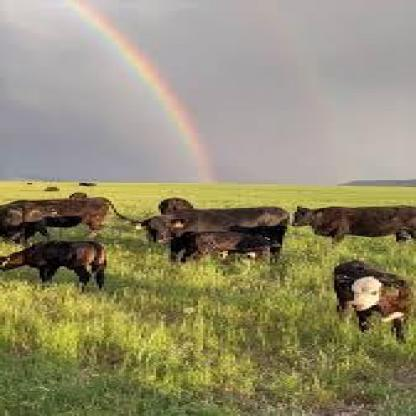cow: (129, 206, 292, 264), (332, 258, 416, 344), (3, 241, 107, 293), (292, 204, 416, 245), (20, 198, 144, 238), (170, 231, 284, 264), (0, 202, 52, 248), (158, 197, 194, 215)
